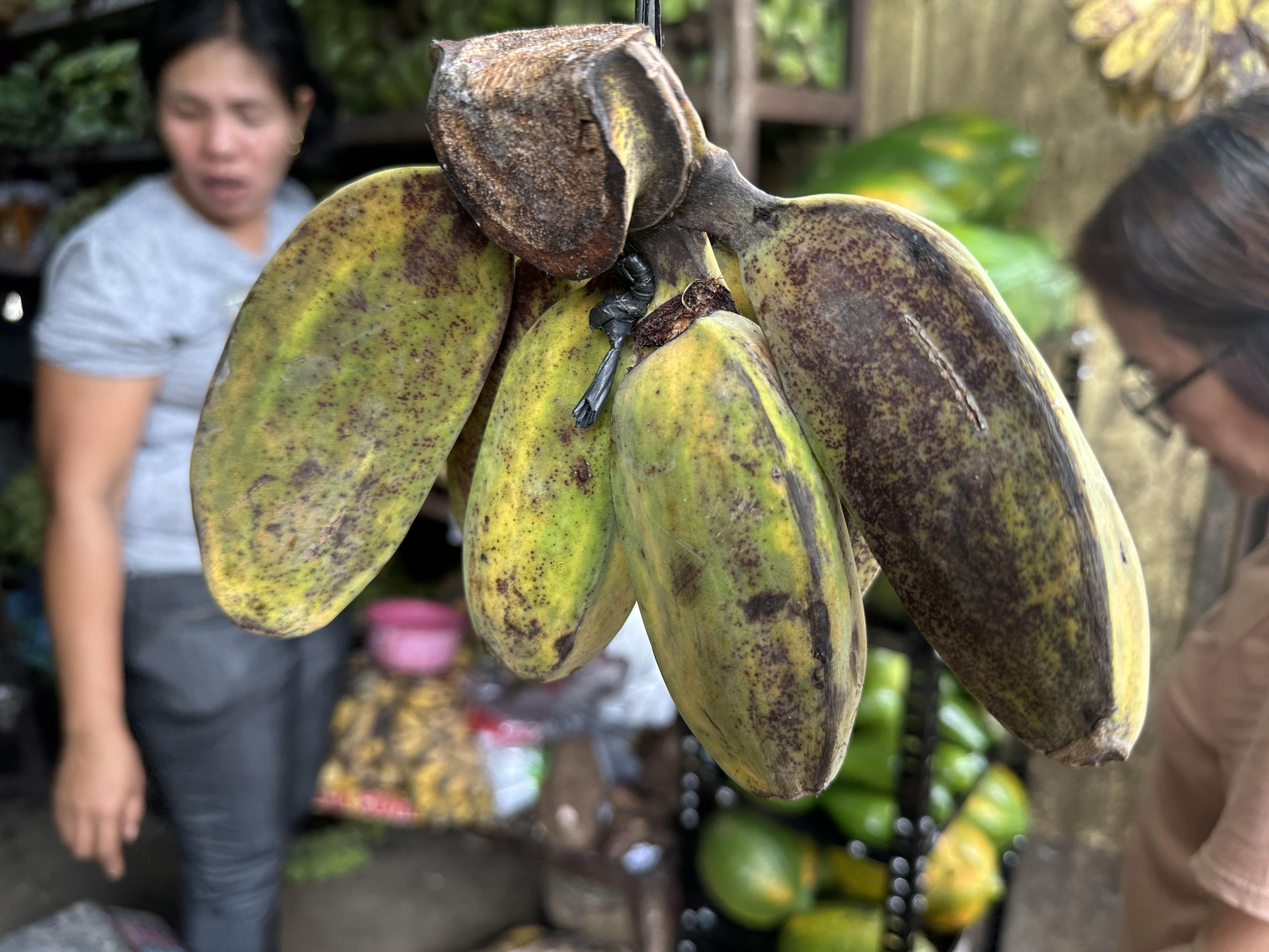underripe: (191, 166, 1148, 796)
